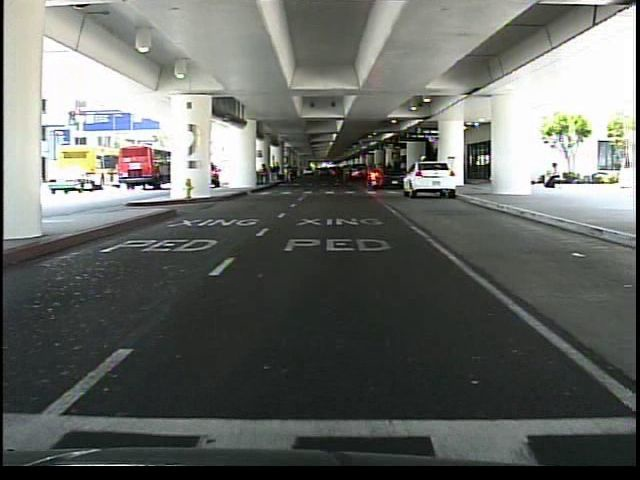person: (538, 156, 566, 193)
